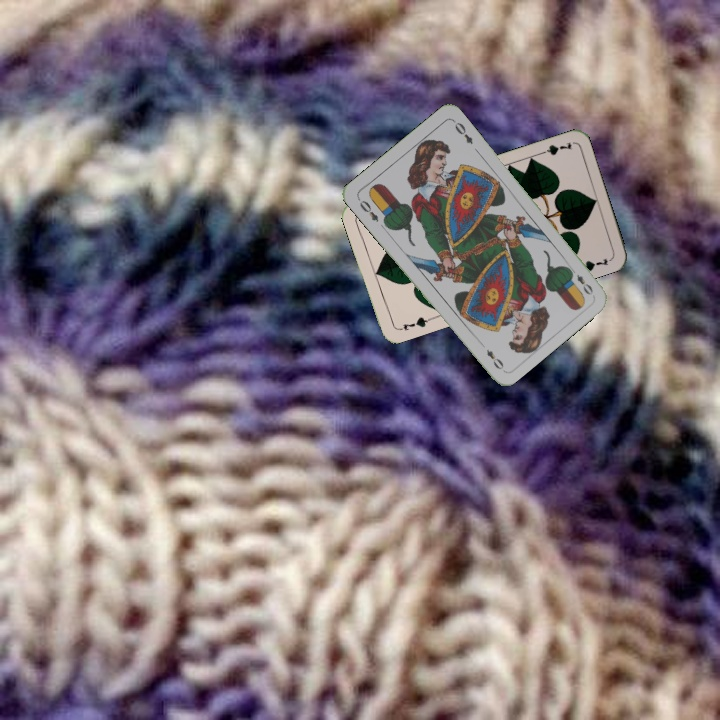EO: (565, 263, 596, 298), (354, 194, 381, 225)
G7: (534, 138, 575, 158), (394, 313, 433, 333)
